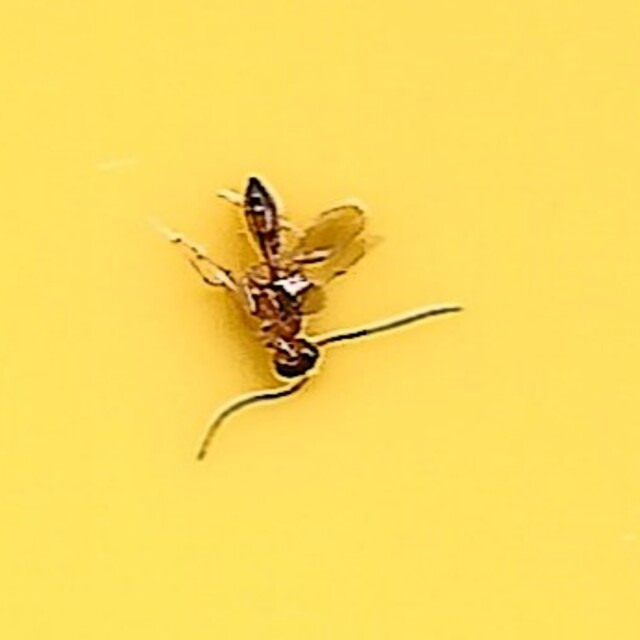Hymenoptera: (185, 179, 455, 461)
